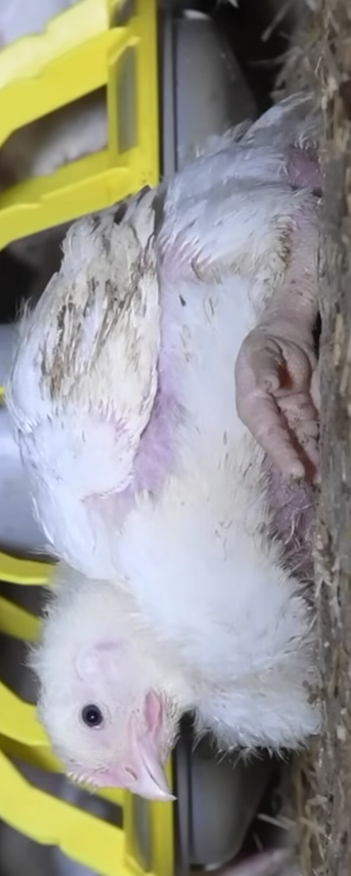Unhealthy: (12, 109, 351, 798)
